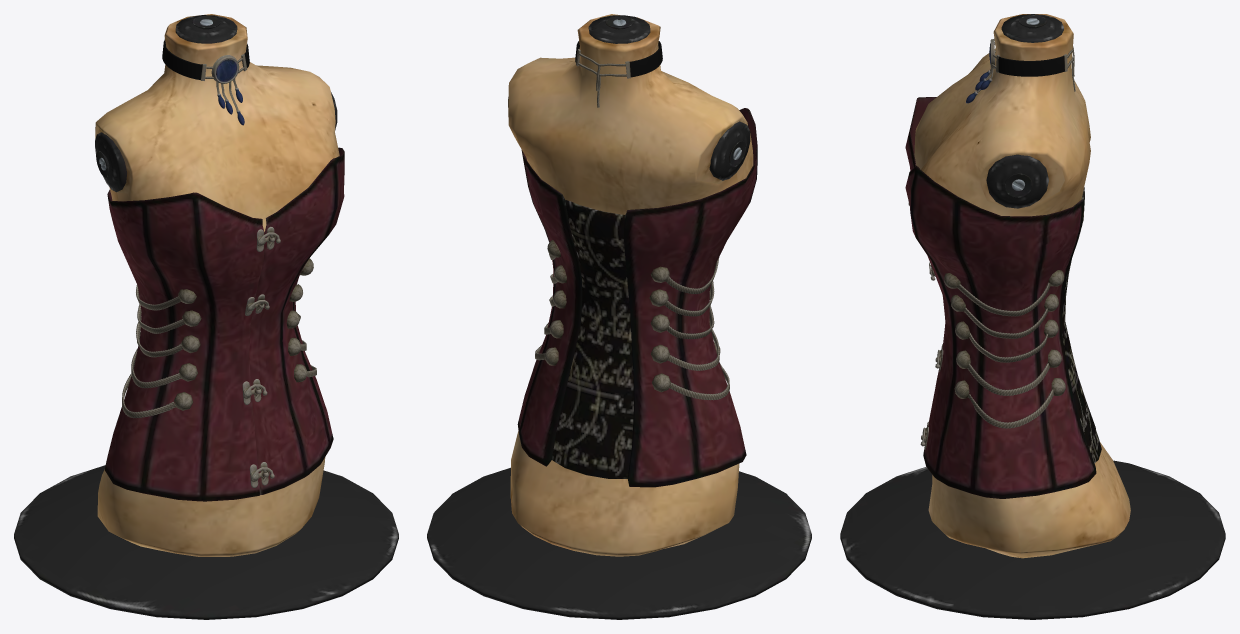
The model's file is corset.glb.
The picture shows the model from 3 angles, left to right: view 1: azimuth 30°, elevation 25°; view 2: azimuth 150°, elevation 25°; view 3: azimuth 270°, elevation 25°; orthographic projection.
Parts seen in each view (by area): view 1: Corset; view 2: Corset; view 3: Corset.
Part boxes in pixels (bbox=[...]): Corset: bbox=[14, 14, 398, 619]; Corset: bbox=[427, 14, 811, 619]; Corset: bbox=[840, 14, 1225, 619].
Size of the model in its own units: 0.039 by 0.0578 by 0.039.
Materials: 1 (1 with a texture image).
